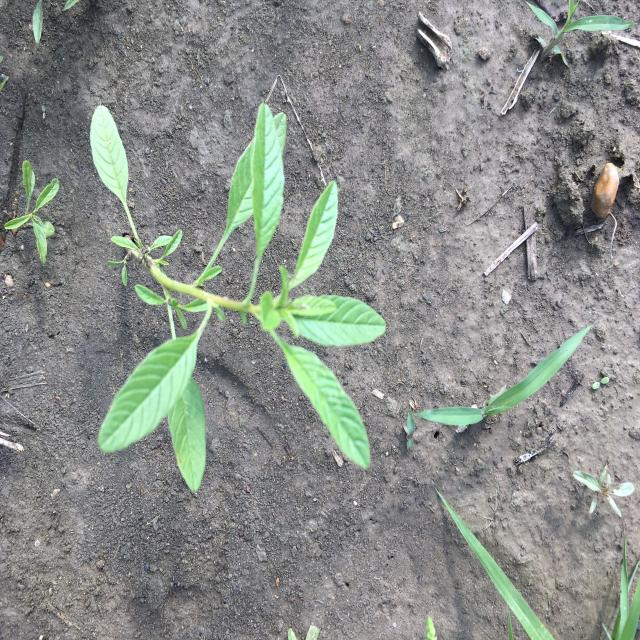Waterhemp: (87, 102, 389, 497), (3, 160, 62, 267), (571, 462, 636, 523)
